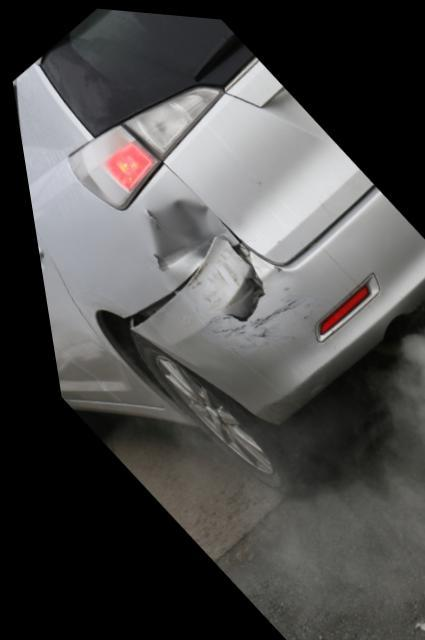crack: (213, 255, 257, 319)
dent: (140, 198, 231, 273)
scratch: (189, 248, 311, 352)
